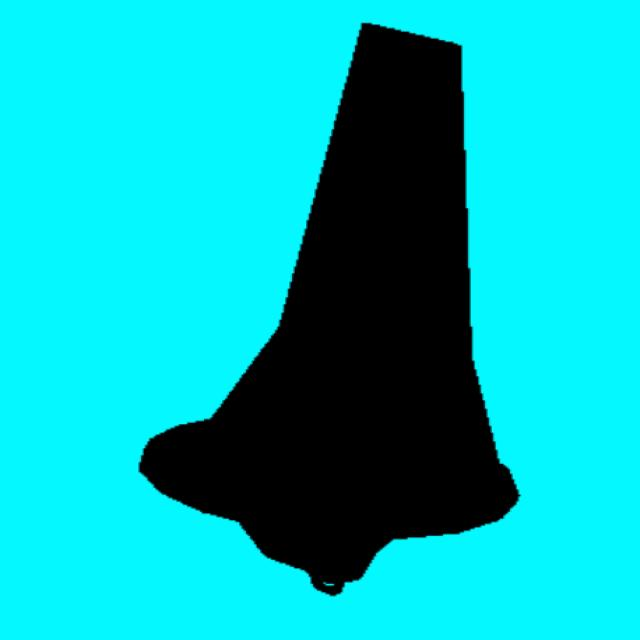BlackBuoy: (141, 24, 518, 594)
